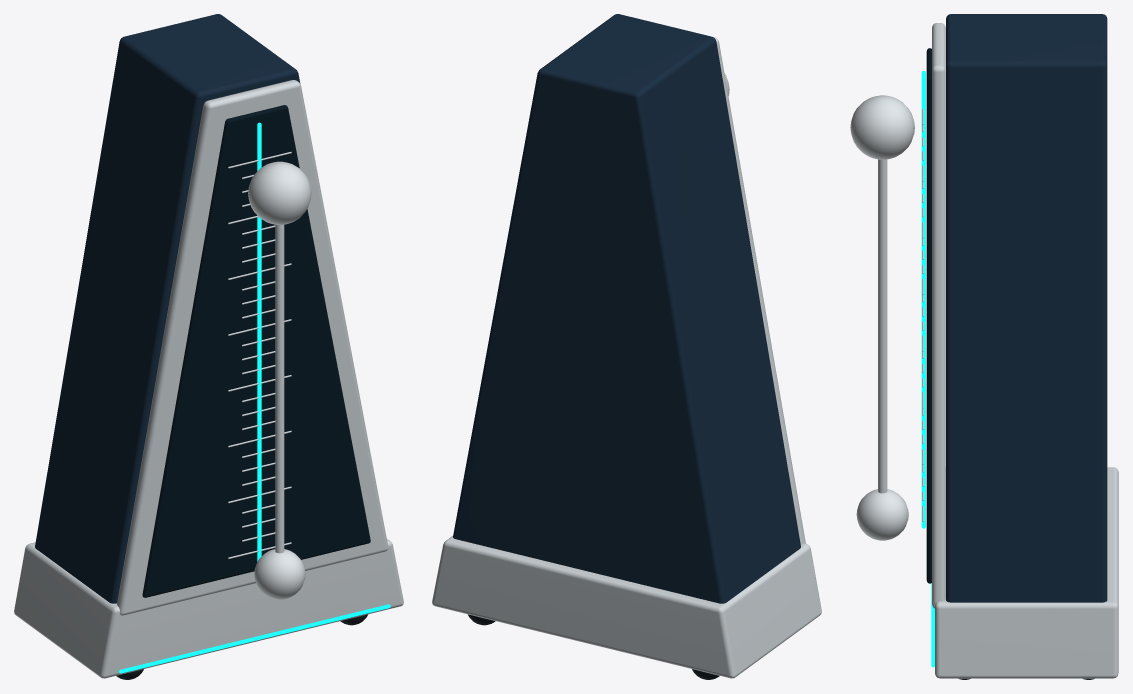
Rendered from timer-metronome.glb.
3 views of the same model, side by side, from view 1: azimuth 30°, elevation 25°; view 2: azimuth 150°, elevation 25°; view 3: azimuth 270°, elevation 25° (orthographic).
Parts seen in each view (by area): view 1: Recessed scale, MetronomeBody, Front bezel, Silver base, PendulumArm, Weight, PivotHousing, Teal centerline, Base teal edge; view 2: MetronomeBody, Silver base, Front bezel; view 3: MetronomeBody, Silver base, Front bezel, PendulumArm, Weight, Recessed scale, PivotHousing, Teal centerline.
Part boxes in pixels (left/top/right/bottom): Recessed scale: left=142, top=105, right=370, bottom=597; MetronomeBody: left=35, top=14, right=300, bottom=603; Front bezel: left=117, top=80, right=388, bottom=615; Silver base: left=14, top=538, right=403, bottom=678; PendulumArm: left=275, top=224, right=284, bottom=553; Weight: left=248, top=161, right=311, bottom=224; PivotHousing: left=254, top=549, right=305, bottom=599; Teal centerline: left=257, top=122, right=261, bottom=561; Base teal edge: left=119, top=604, right=390, bottom=673; MetronomeBody: left=453, top=14, right=800, bottom=603; Silver base: left=432, top=536, right=821, bottom=678; Front bezel: left=630, top=16, right=805, bottom=544; MetronomeBody: left=946, top=14, right=1107, bottom=602; Silver base: left=935, top=467, right=1118, bottom=678; Front bezel: left=932, top=23, right=945, bottom=608; PendulumArm: left=878, top=159, right=887, bottom=493; Weight: left=850, top=95, right=914, bottom=159; Recessed scale: left=926, top=48, right=931, bottom=583; PivotHousing: left=856, top=489, right=908, bottom=540; Teal centerline: left=921, top=71, right=925, bottom=528.
Size of the model in its own units: 1.43 by 2.6 by 1.08.
